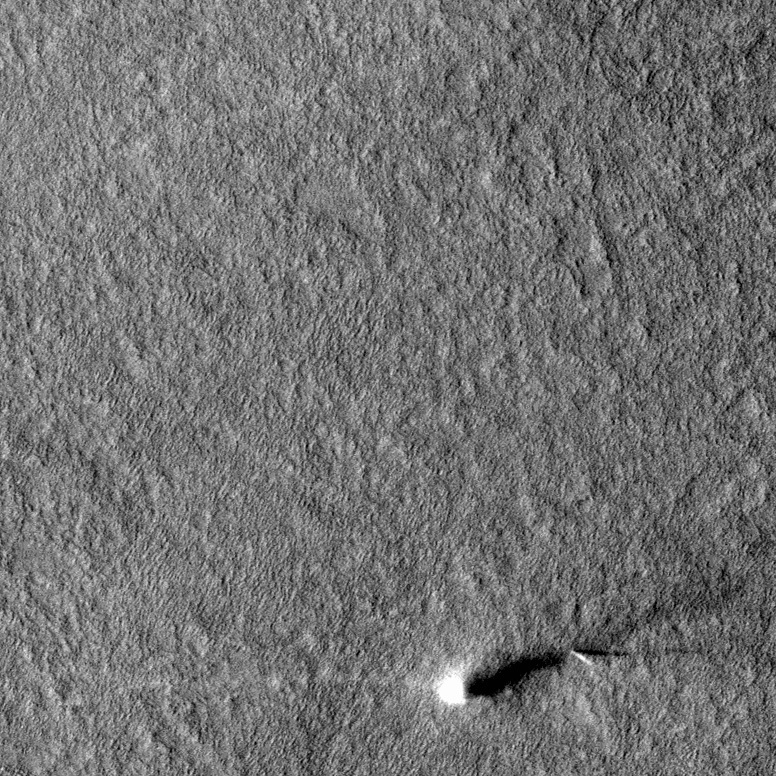dust_devil: (435, 649, 565, 707), (568, 648, 630, 666)
